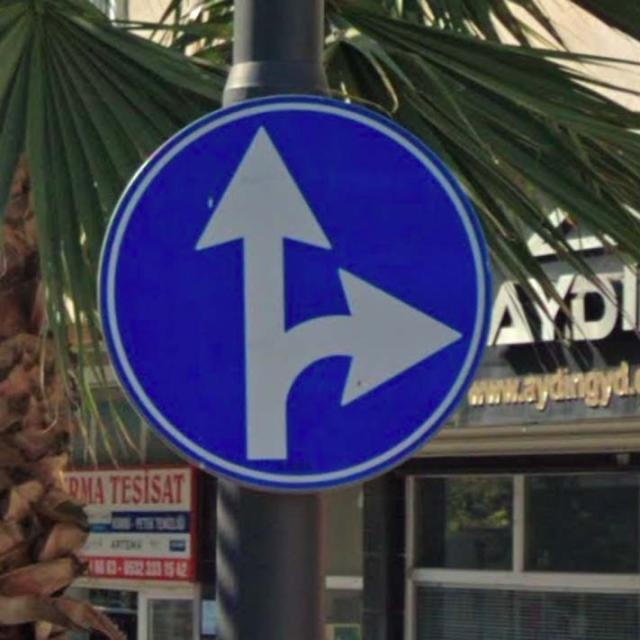ilerisag: (96, 93, 487, 491)
